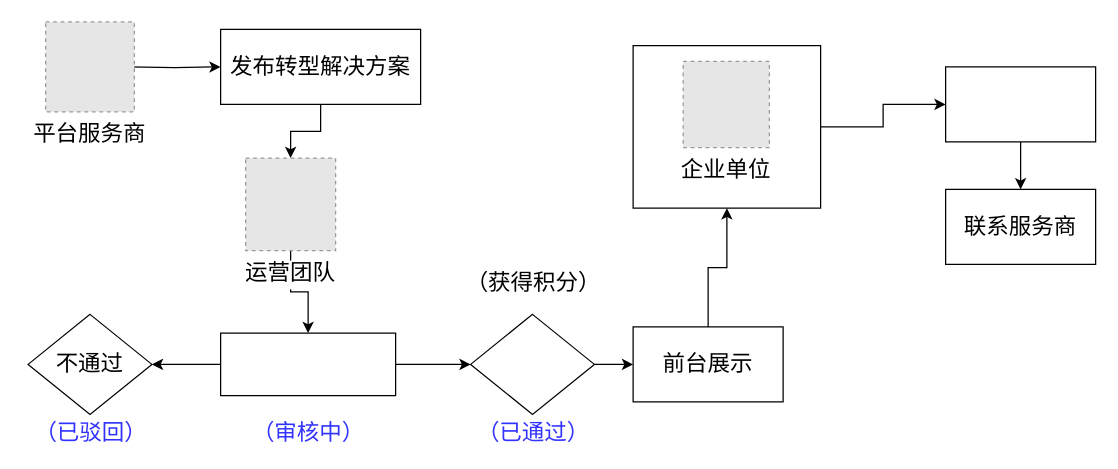
The diagram is 1118 pixels wide and 469 high, and some of its shapes have lost their labels. Grey dashed boxes stand in for pictures. The centre of each missing label's shape, as x and y in pixels:
"参看选择产品服务" goes at point 1020,104.
"审核" goes at point 307,364.
"通过" goes at point 531,363.
